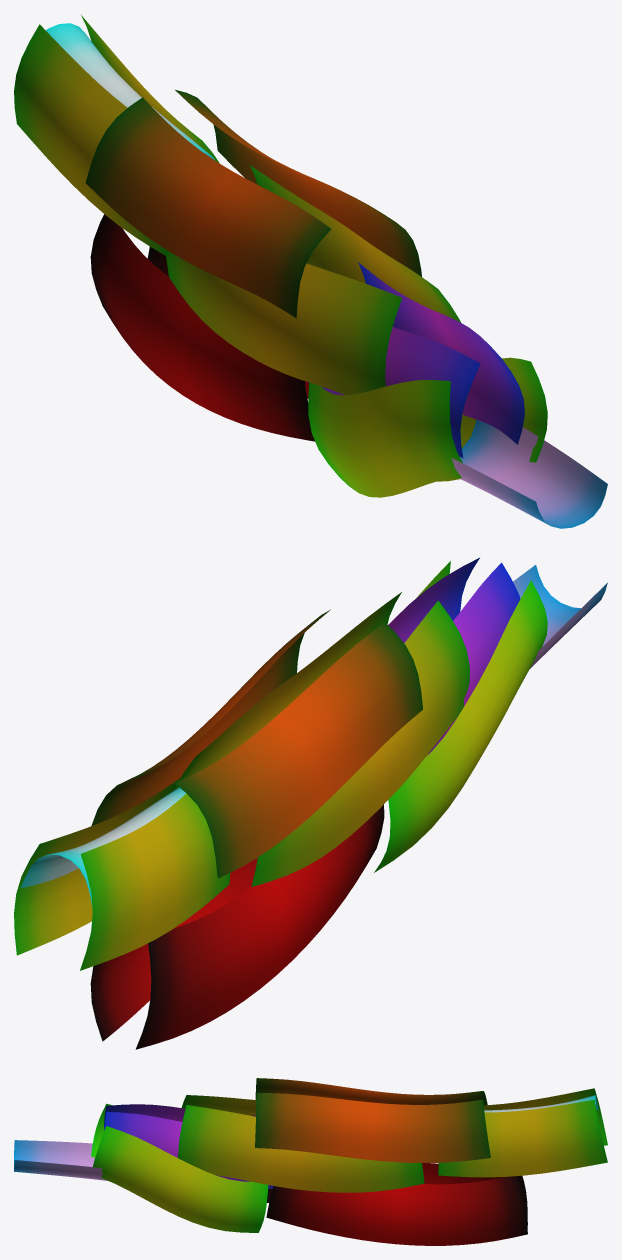
Rendered from VFX_Mesh.fbx.
3 views of the same model, one above another, from view 1: azimuth 30°, elevation 25°; view 2: azimuth 150°, elevation 25°; view 3: azimuth 270°, elevation 25° (orthographic). The views are drawn at different scales.
Visible parts, largest first — view 1: VFX_Mesh; view 2: VFX_Mesh; view 3: VFX_Mesh.
Boxes of the visible parts, x1,y1,x2,y2 form: VFX_Mesh: (14, 15, 607, 528); VFX_Mesh: (14, 557, 607, 1049); VFX_Mesh: (14, 1078, 607, 1245).
Size of the model in its own units: 0.1194 by 0.2295 by 0.8206.
